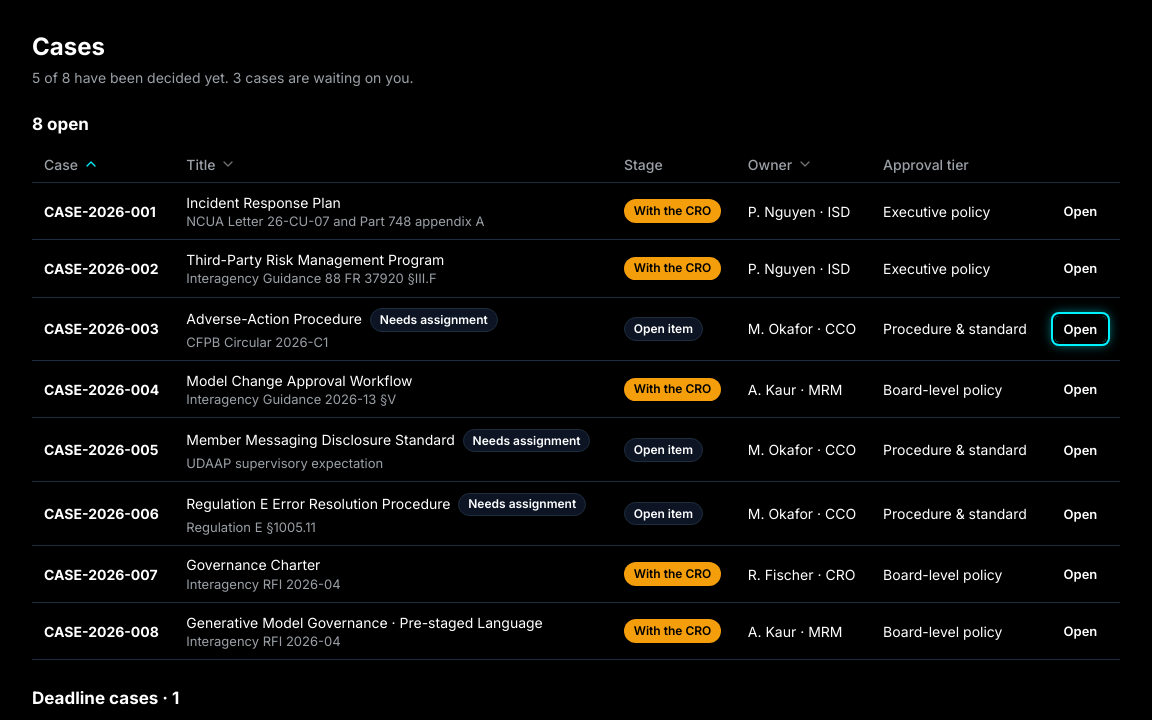
ONS-CASE-01 AC3 — case context on landing (CaseDetail.tsx, verified AS SHIPPED, no cross-link-region edit needed) › a genuinely untouched case (CASE-2026-003, aa-procedure, proc tier — never routed by the PI2-D45 override) shows the renamed "Open item" stage pill, never the p
The width and height of the screenshot is (1152, 720).
Expected: the text "CASE-2026-003" is shown, [44,320,159,337]
What coordinates should you click on to do the following:
click the button "Open" in the row of "CASE-2026-003"
I would click on:
 (1080, 329)
Its box is [1054,316,1106,342].
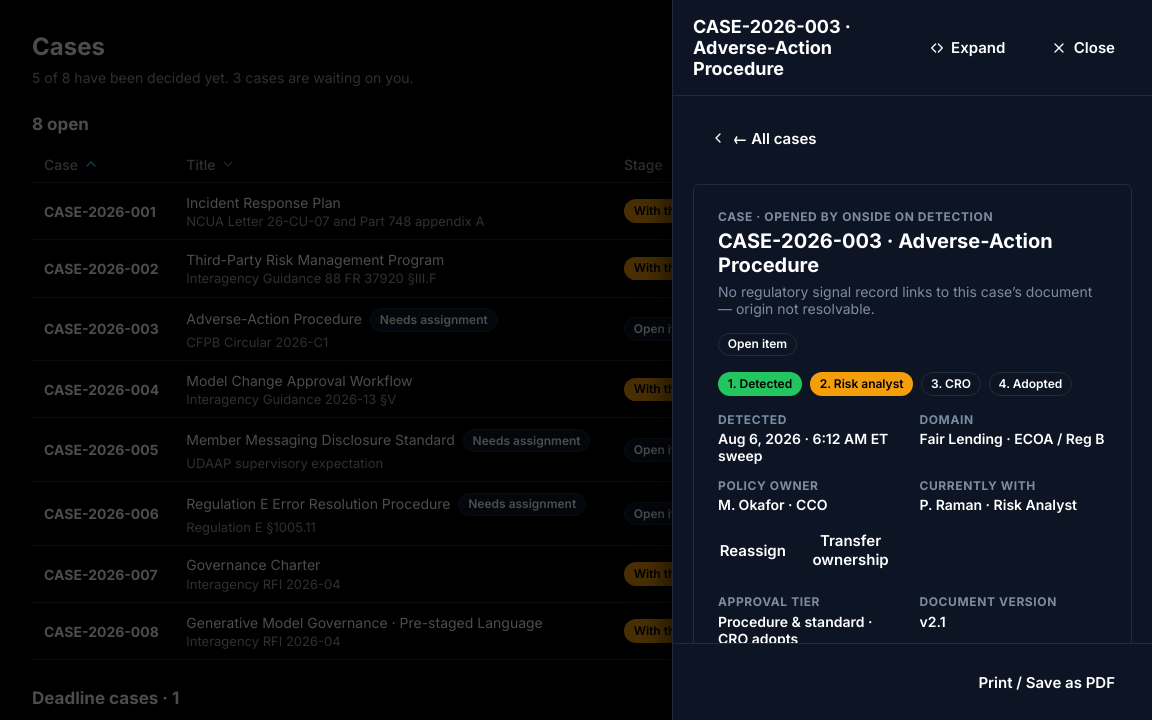
Now the text "Open item" is shown, box [718,333,797,356]
